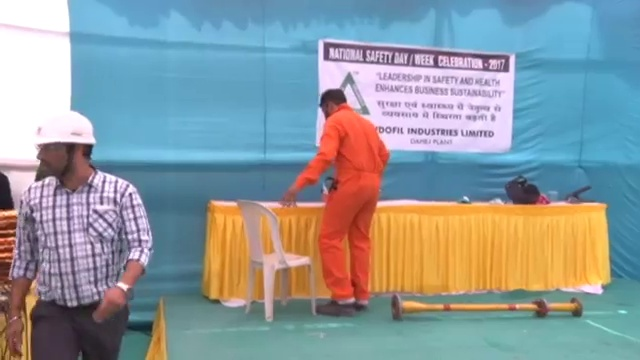helmet: (31, 107, 97, 146)
helmet_off: (318, 86, 349, 122)
helmet_on: (33, 111, 95, 183)
person: (21, 111, 156, 360), (290, 86, 391, 323)
